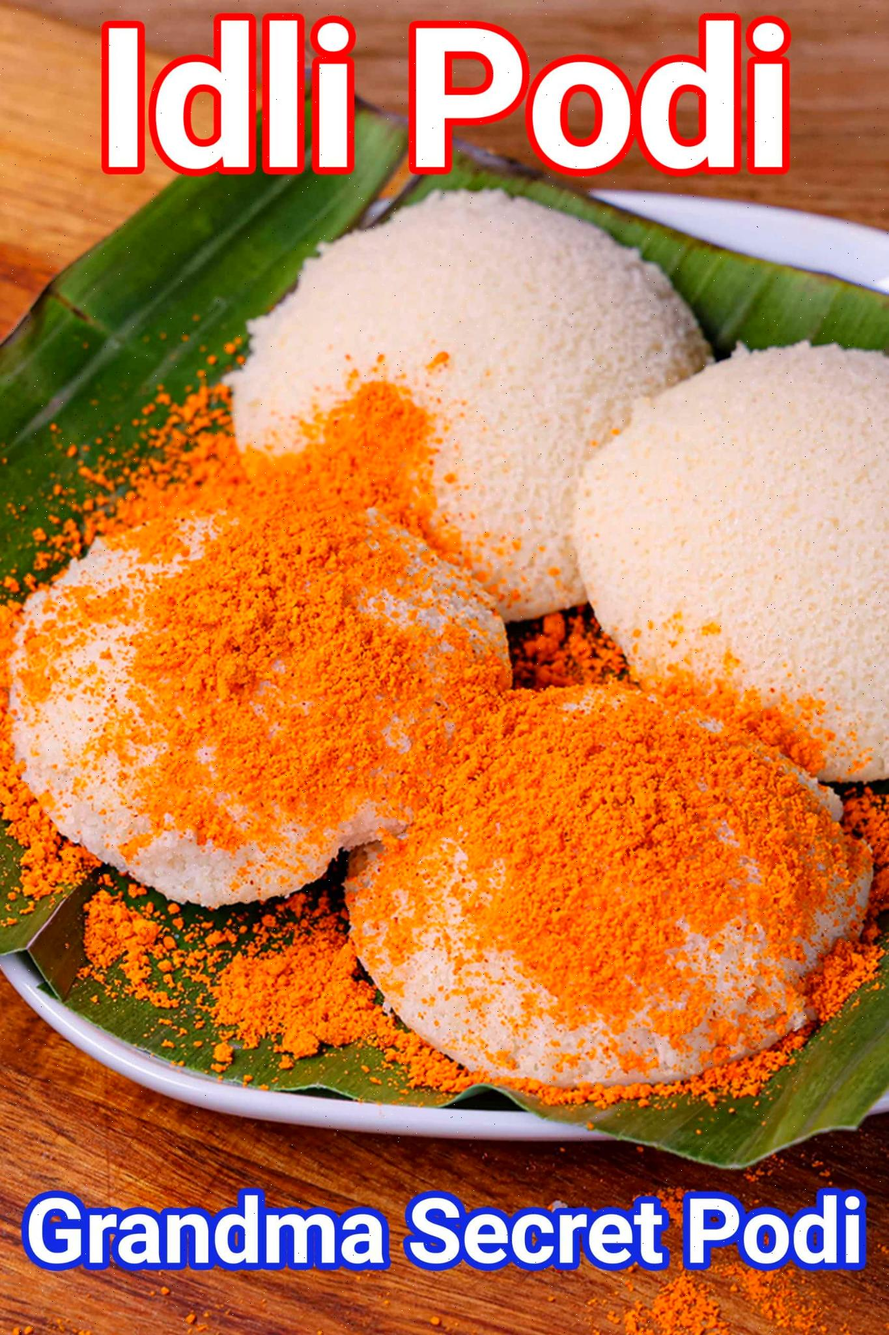idli: (152, 179, 889, 1085)
